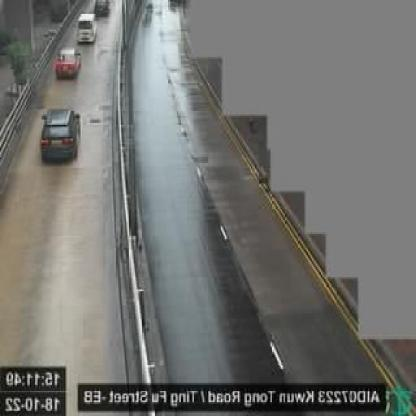Car: (40, 108, 80, 167), (54, 45, 82, 80), (76, 11, 97, 43), (94, 0, 113, 17)
